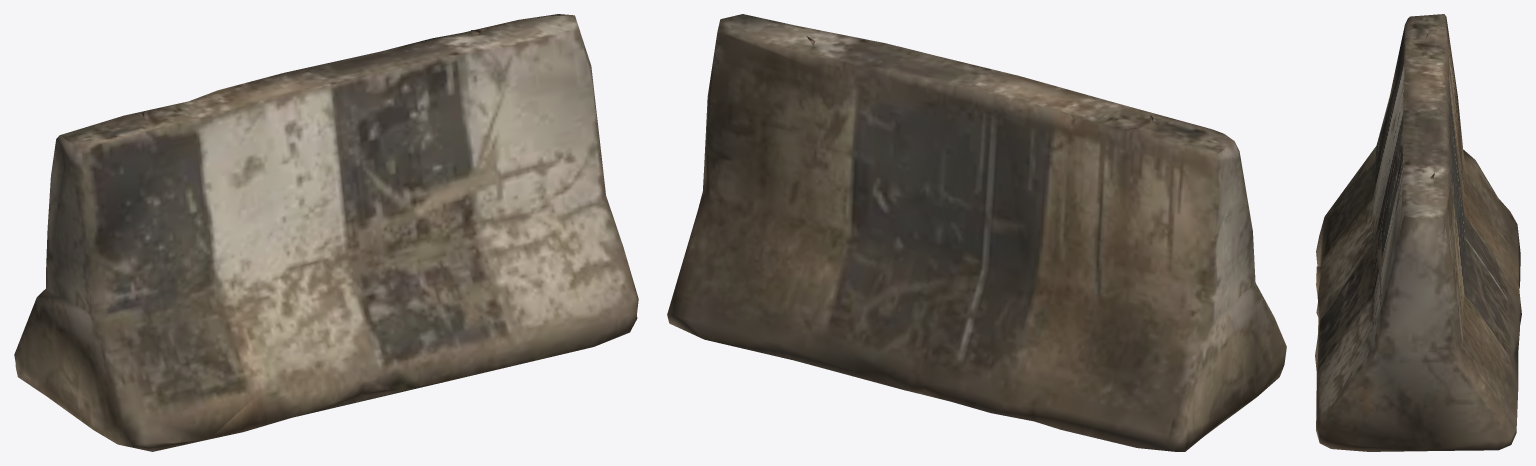
Rendered from concrete_road_barrier_lod1.glb.
3 views of the same model, side by side, from view 1: azimuth 30°, elevation 25°; view 2: azimuth 150°, elevation 25°; view 3: azimuth 270°, elevation 25° (orthographic). The views are drawn at different scales.
Visible parts, largest first — view 1: concrete_road_barrier; view 2: concrete_road_barrier; view 3: concrete_road_barrier.
Part boxes in pixels (box(x1,y1,x2,y2)): concrete_road_barrier: box(14, 14, 638, 451); concrete_road_barrier: box(667, 14, 1286, 451); concrete_road_barrier: box(1315, 14, 1521, 451).
Size of the model in its own units: 1.54 by 0.8226 by 0.6336.
Materials: 1 (1 with a texture image).
